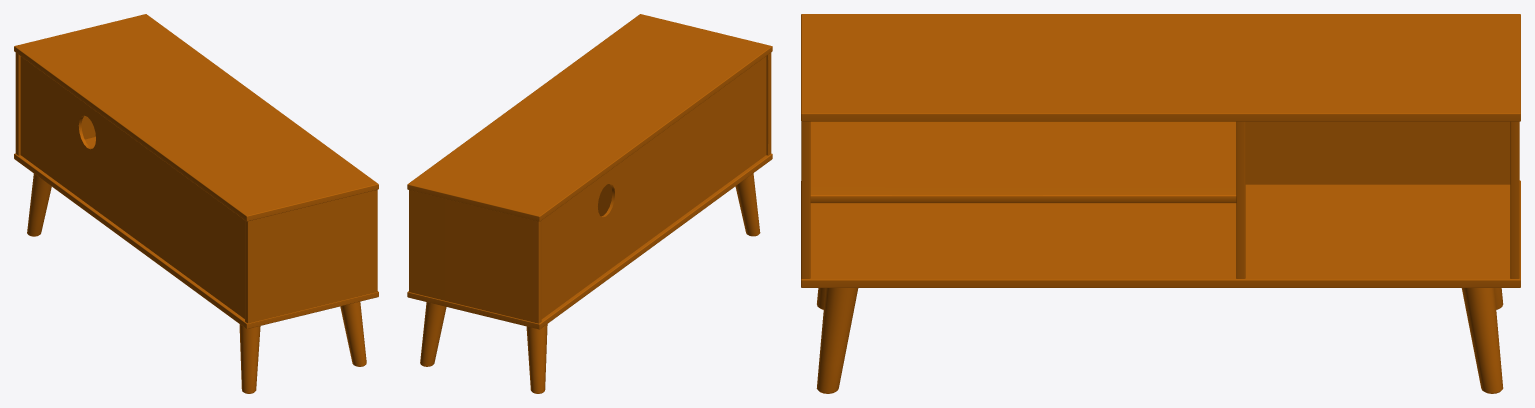
The model's file is tv stand.fbx.
The picture shows the model from 3 angles, left to right: view 1: azimuth 30°, elevation 25°; view 2: azimuth 150°, elevation 25°; view 3: azimuth 270°, elevation 25°; orthographic projection. The views are drawn at different scales.
Visible parts, largest first — view 1: TVstand; view 2: TVstand; view 3: TVstand.
Part boxes in pixels (<box>): TVstand: <box>14,14,378,393</box>; TVstand: <box>407,14,772,393</box>; TVstand: <box>801,14,1520,393</box>.
Size of the model in its own units: 170 by 74.19 by 55.81.
